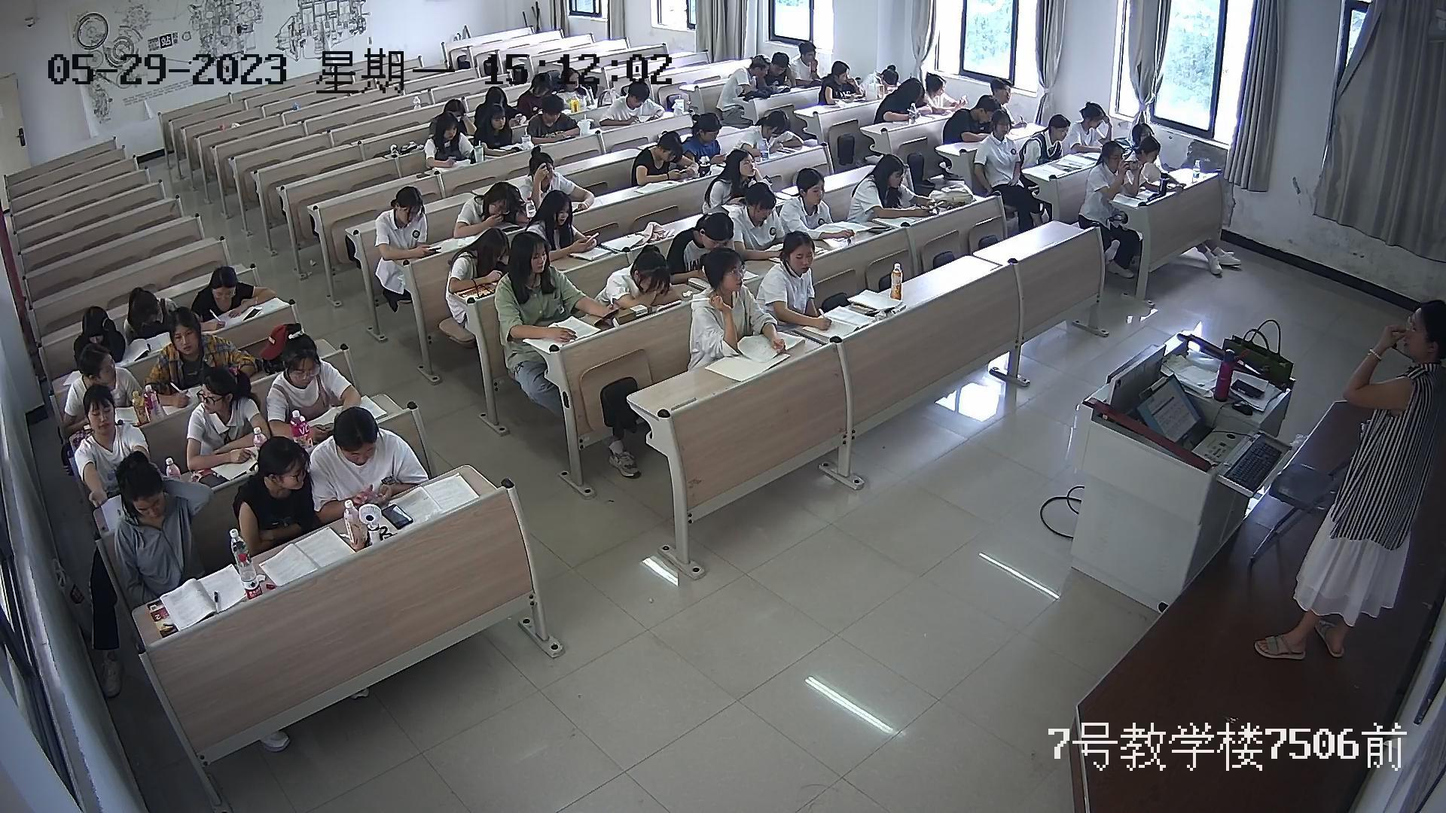Bend Over The Desk: (625, 245, 689, 311), (455, 179, 526, 237)
Hand Under Table: (1013, 158, 1025, 189), (807, 293, 819, 315)
Look Around: (187, 371, 269, 447), (739, 54, 772, 95)
Normal: (272, 328, 349, 410), (669, 164, 691, 180)
phone: (588, 298, 625, 335), (919, 198, 951, 224), (577, 231, 601, 255), (1117, 154, 1143, 175), (497, 212, 521, 234), (363, 488, 390, 505), (503, 143, 527, 160), (774, 140, 794, 159), (571, 195, 588, 217), (427, 239, 444, 260), (715, 146, 729, 160)
